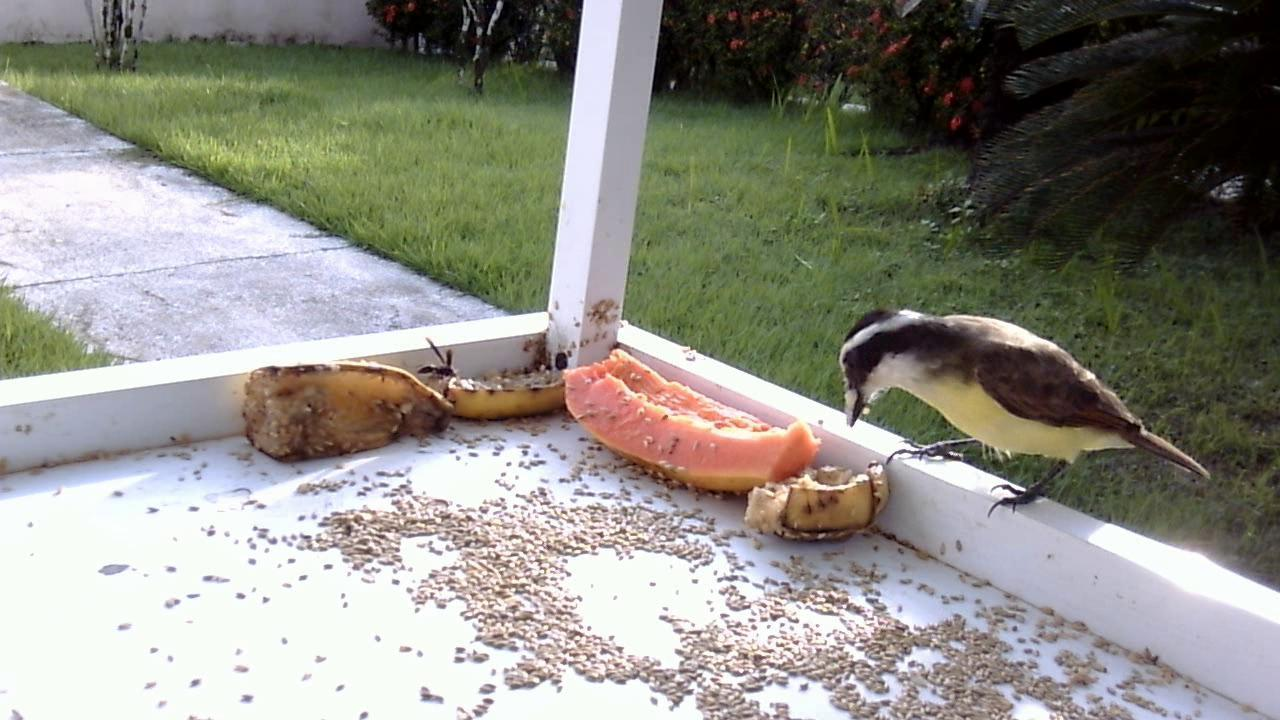bem_te_vi: (831, 292, 1215, 537)
